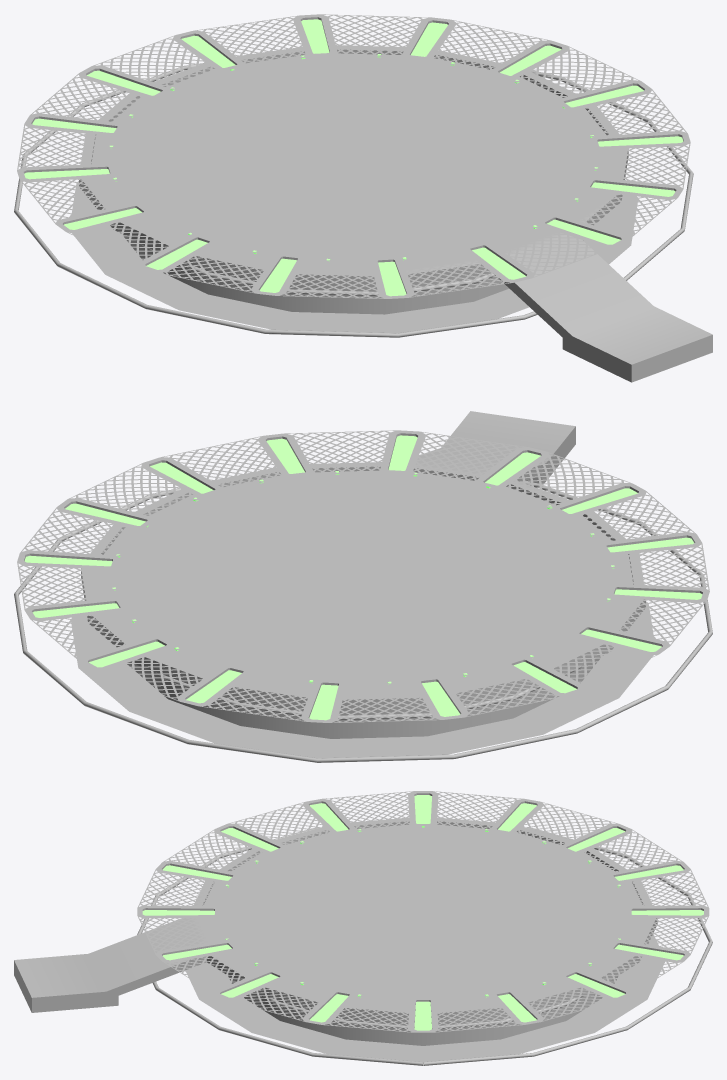
Rendered from heliport.gltf.
3 renders of one model, top to bottom at view 1: azimuth 30°, elevation 25°; view 2: azimuth 150°, elevation 25°; view 3: azimuth 270°, elevation 25°, orthographic. The views are drawn at different scales.
Parts seen in each view (by area): view 1: Object_5, Object_2, Object_4; view 2: Object_5, Object_2, Object_4; view 3: Object_5, Object_2, Object_4.
Part boxes in pixels (<box>): Object_5: <box>14,45,712,382</box>; Object_2: <box>17,14,690,298</box>; Object_4: <box>24,19,683,296</box>; Object_5: <box>14,411,712,762</box>; Object_2: <box>17,430,709,722</box>; Object_4: <box>24,435,702,720</box>; Object_5: <box>14,817,712,1065</box>; Object_2: <box>137,791,709,1032</box>; Object_4: <box>142,795,703,1030</box>.
Size of the model in its own units: 3020 by 279 by 3644.
